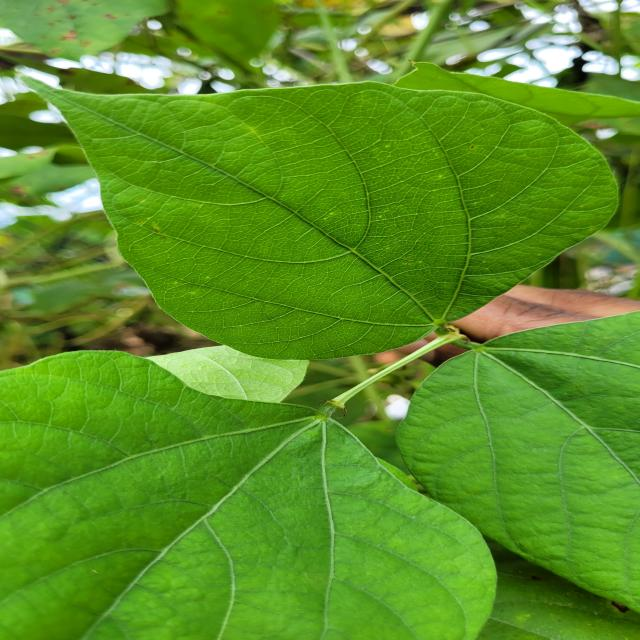Dolicos bean_healthy: (14, 72, 618, 359), (3, 357, 513, 640), (404, 305, 640, 622)
